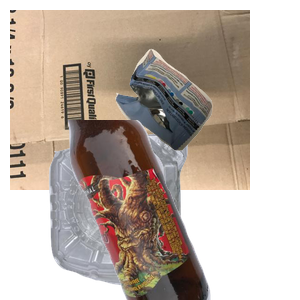cardboard: (10, 10, 250, 190)
glass: (65, 120, 300, 300)
plastic: (46, 130, 227, 300)
trash: (113, 46, 300, 189)
